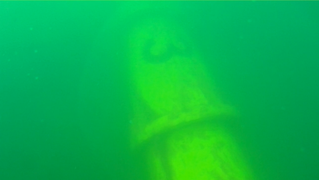3: (141, 38, 193, 64)
pipe: (113, 1, 258, 179)
